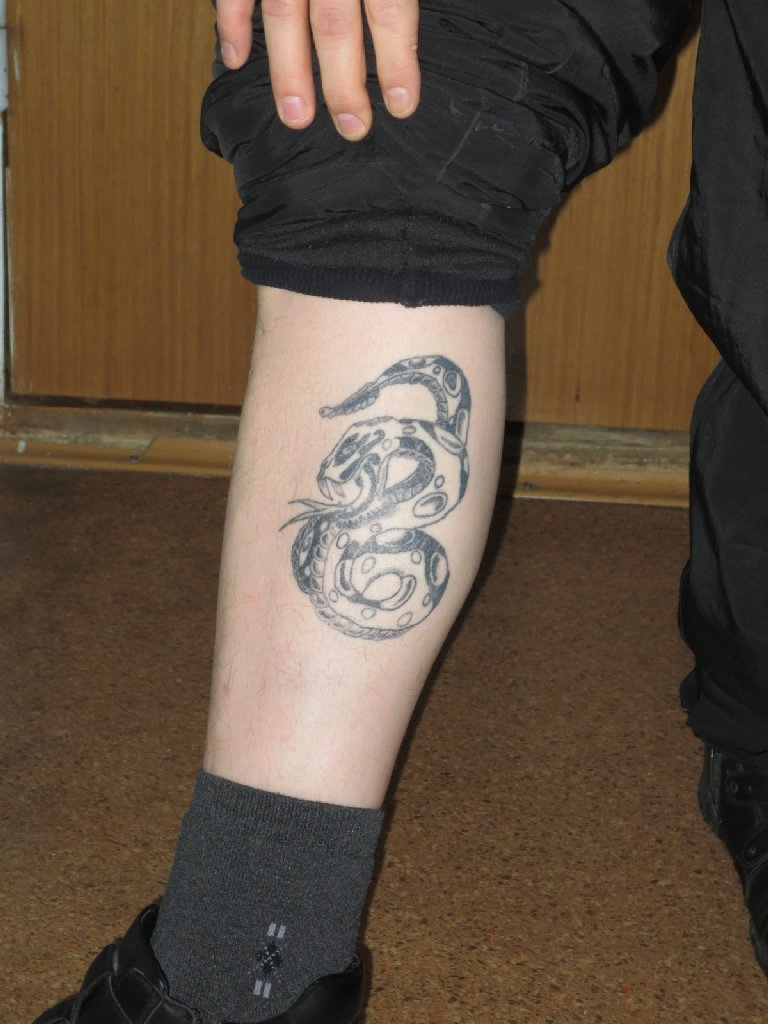tatu7_zmeya: (298, 343, 454, 684)
